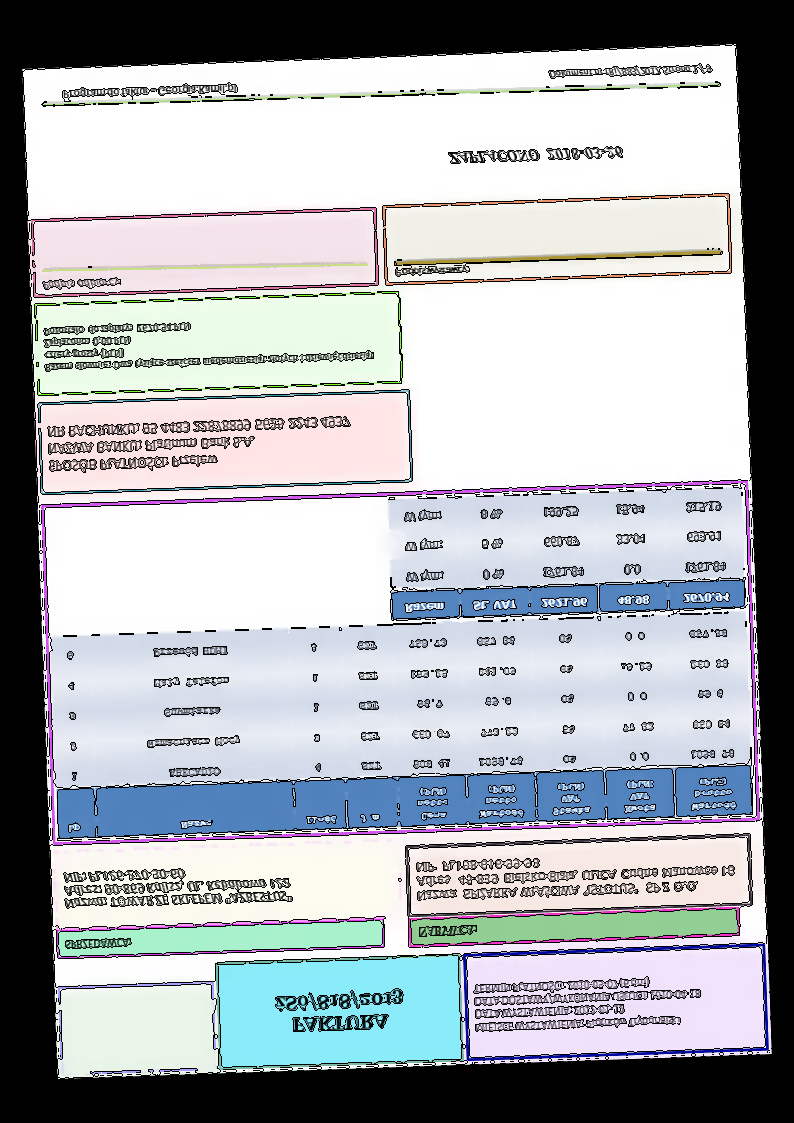Table: (49, 611, 754, 840), (386, 487, 746, 621)
TextBox: (45, 412, 354, 477), (41, 314, 376, 373), (413, 848, 737, 903), (471, 973, 703, 1037), (61, 863, 293, 910), (272, 987, 407, 1035), (445, 143, 625, 168), (61, 81, 238, 103), (547, 60, 713, 81), (39, 273, 125, 293), (393, 262, 470, 278), (62, 935, 133, 952), (416, 922, 479, 939)
